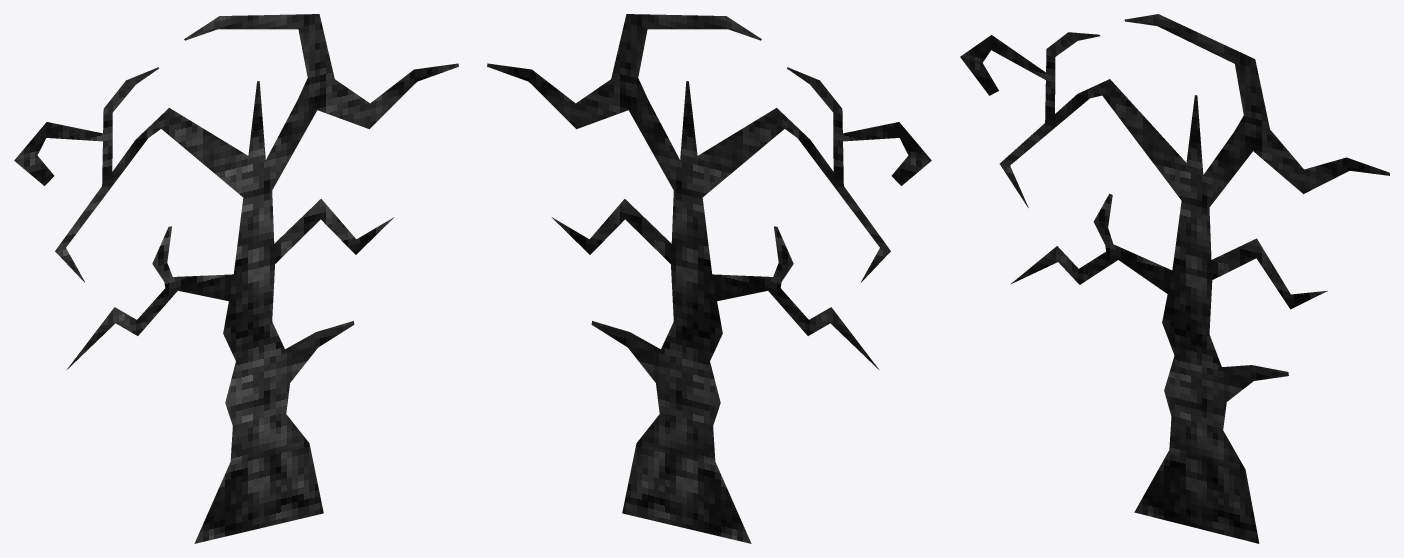
The model's file is TreeBackGround2.fbx.
3 renders of one model, left to right at view 1: azimuth 30°, elevation 25°; view 2: azimuth 150°, elevation 25°; view 3: azimuth 330°, elevation 25°, orthographic. The views are drawn at different scales.
Parts seen in each view (by area): view 1: TreeBackGround; view 2: TreeBackGround; view 3: TreeBackGround.
Boxes of the visible parts, x1,y1,x2,y2 form: TreeBackGround: (14, 14, 458, 543); TreeBackGround: (487, 14, 931, 543); TreeBackGround: (960, 14, 1389, 543).
Bounding box in the file's own units: 7.67 × 8.62 × 2.21e-06.
1 material, 1 textured.
